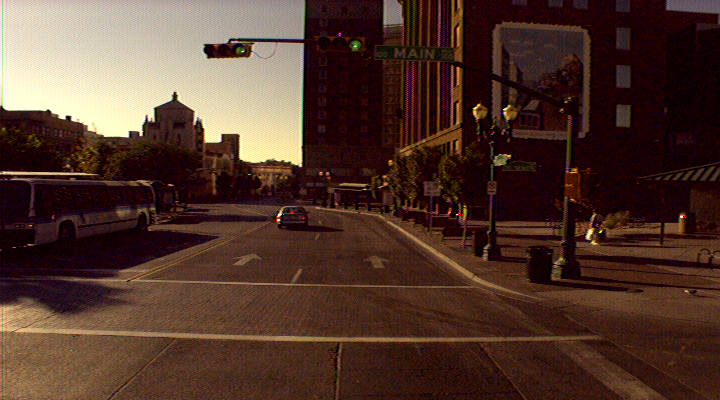Ramp: (505, 271, 720, 341)
